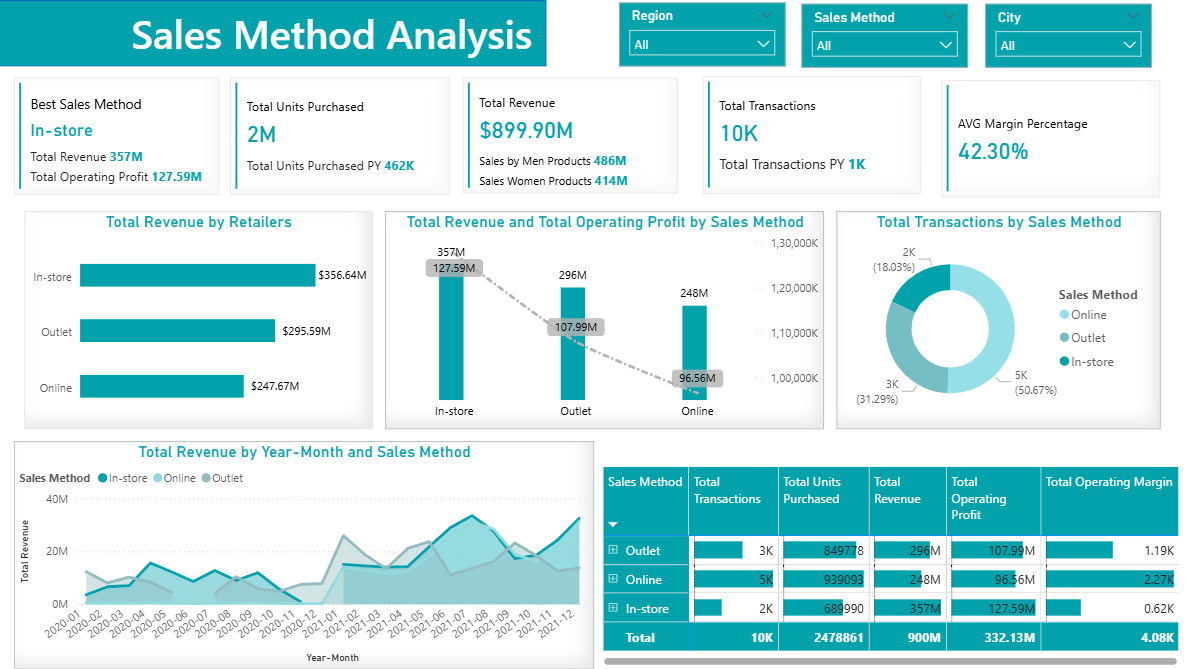

What the dashboard file says about the page in this screenshot:
{"tool":"powerbi","page":{"name":"Sales Method Analysis","canvas":[1280,720],"ordinal":4},"visuals":[{"type":"textbox","box":[863.4,0,205.8,61.9],"z":0},{"type":"cardVisual","fields":{"Data":["Min(Sales Details.Sales Method)"]},"box":[15.6,82.9,221,126.6],"z":1000},{"type":"cardVisual","fields":{"Data":["Measures Table.Total Transactions"]},"box":[757.1,82,235.3,126.4],"z":2000},{"type":"cardVisual","fields":{"Data":["Measures Table.AVG Margin Percentage"]},"box":[1014,86.1,235.3,126.4],"z":3000},{"type":"barChart","title":"Total Revenue by Retailers","fields":{"Y":["Measures Table.Total Revenue"],"Category":["Sales Details.Sales Method"]},"box":[26.6,226.7,375.2,234.5],"z":4000},{"type":"lineStackedColumnComboChart","fields":{"Y":["Measures Table.Total Revenue"],"Y2":["Measures Table.Total Operating Profit"],"Category":["Sales Details.Sales Method"]},"box":[415.8,226.7,472.1,234.5],"z":5000},{"type":"slicer","fields":{"Values":["Sales Details.Sales Method"]},"box":[863.4,4,178.9,68.6],"z":6000},{"type":"slicer","fields":{"Values":["Sales Details.Region"]},"box":[667,2.7,178.9,68.6],"z":7000},{"type":"slicer","fields":{"Values":["Sales Details.City"]},"box":[1061.1,4,178.9,68.6],"z":8000},{"type":"shape","box":[0,0,589,71.3],"z":9000},{"type":"textbox","box":[137.6,1.6,476.8,76.6],"z":10000},{"type":"cardVisual","fields":{"Data":["Measures Table.Total Revenue"]},"box":[498.7,82.9,231.4,125.1],"z":11000},{"type":"pivotTable","fields":{"Values":["Measures Table.Total Transactions","Measures Table.Total Units Purchased","Measures Table.Total Revenue","Measures Table.Total Operating Profit","Sum(Sales Details.Operating Margin)"],"Rows":["Sales Details.Sales Method","Sales Details.Product Category"]},"box":[645.6,497.1,628.4,223.5],"z":12000},{"type":"cardVisual","fields":{"Data":["Measures Table.Total Units Purchased"]},"box":[248.6,82.9,236.1,126.6],"z":13000},{"type":"donutChart","fields":{"Category":["Sales Details.Sales Method"],"Y":["Measures Table.Total Transactions"]},"box":[900.4,226.7,348.6,234.5],"z":14000},{"type":"lineChart","fields":{"Y":["Measures Table.Total Revenue"],"Category":["DateTable.Year-Month"],"Series":["Sales Details.Sales Method"]},"box":[15.6,475.2,623.7,245.4],"z":15000}]}

Visuals, with their boxes in screenshot pixels (x1, y1, x2, y2), scaled from the page's 1280x720 canvas onto the 1188x669 screenshot:
textbox: 801:0:992:58
cardVisual - Min(Sales Details.Sales Method): 14:77:220:195
cardVisual - Measures Table.Total Transactions: 703:76:921:194
cardVisual - Measures Table.AVG Margin Percentage: 941:80:1160:197
"Total Revenue by Retailers" barChart: 25:211:373:429
lineStackedColumnComboChart - Measures Table.Total Revenue x Measures Table.Total Operating Profit: 386:211:824:429
slicer - Sales Details.Sales Method: 801:4:967:67
slicer - Sales Details.Region: 619:3:785:66
slicer - Sales Details.City: 985:4:1151:67
shape: 0:0:547:66
textbox: 128:1:570:73
cardVisual - Measures Table.Total Revenue: 463:77:678:193
pivotTable - Measures Table.Total Transactions x Measures Table.Total Units Purchased: 599:462:1182:668
cardVisual - Measures Table.Total Units Purchased: 231:77:450:195
donutChart - Sales Details.Sales Method x Measures Table.Total Transactions: 836:211:1159:429
lineChart - Measures Table.Total Revenue x DateTable.Year-Month: 14:442:593:668
